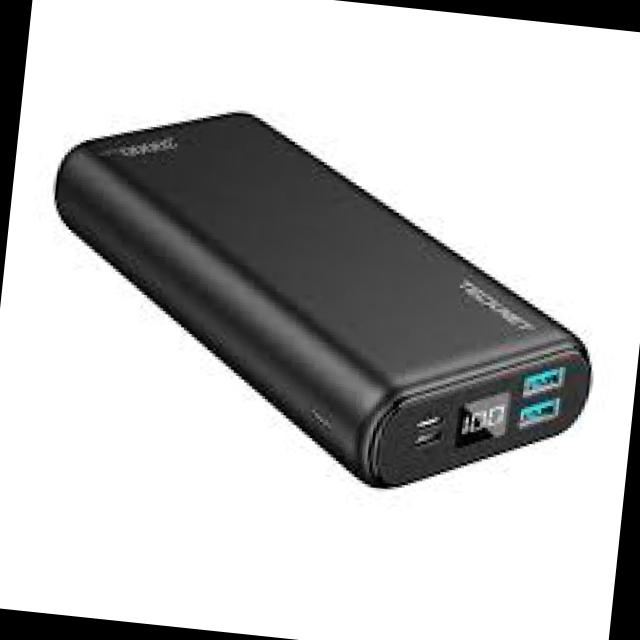power_bank: (22, 89, 617, 510)
